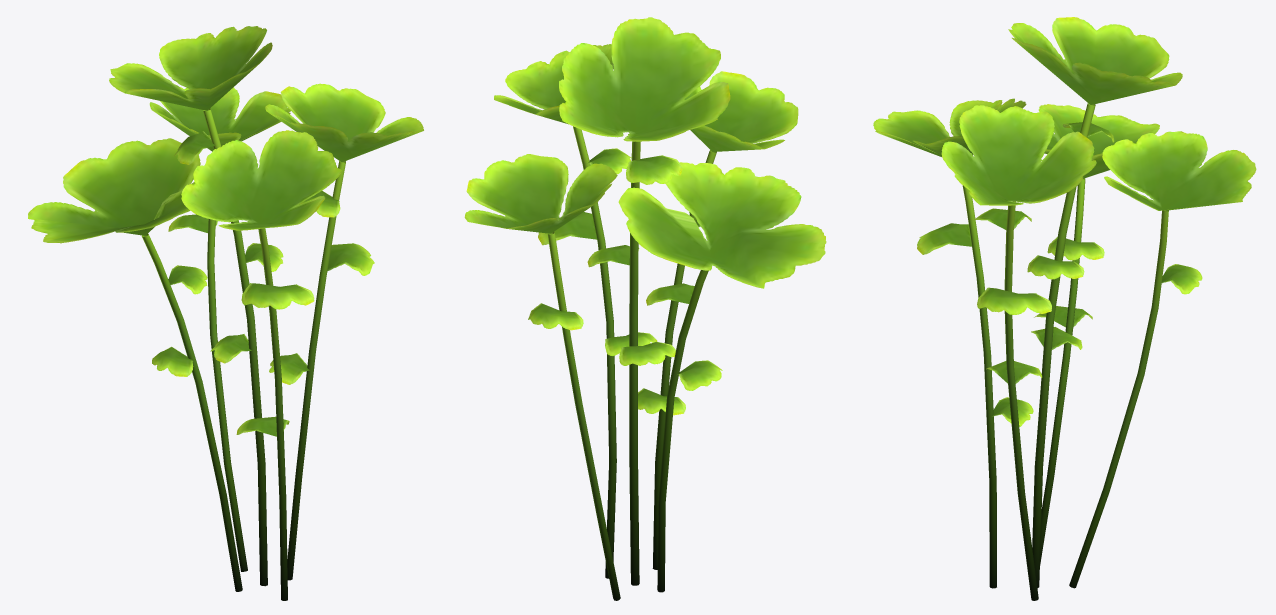
The model's file is trefle-2.glb.
3 views of the same model, side by side, from view 1: azimuth 30°, elevation 25°; view 2: azimuth 150°, elevation 25°; view 3: azimuth 270°, elevation 25° (orthographic). The views are drawn at different scales.
Parts seen in each view (by area): view 1: Clover_2; view 2: Clover_2; view 3: Clover_2.
Part boxes in pixels (x1,y1,x2,y2): Clover_2: (28,26,423,600); Clover_2: (464,17,826,600); Clover_2: (873,17,1256,600).
Bounding box in the file's own units: 0.8512 × 1.26 × 0.8367.
1 material, 1 textured.
